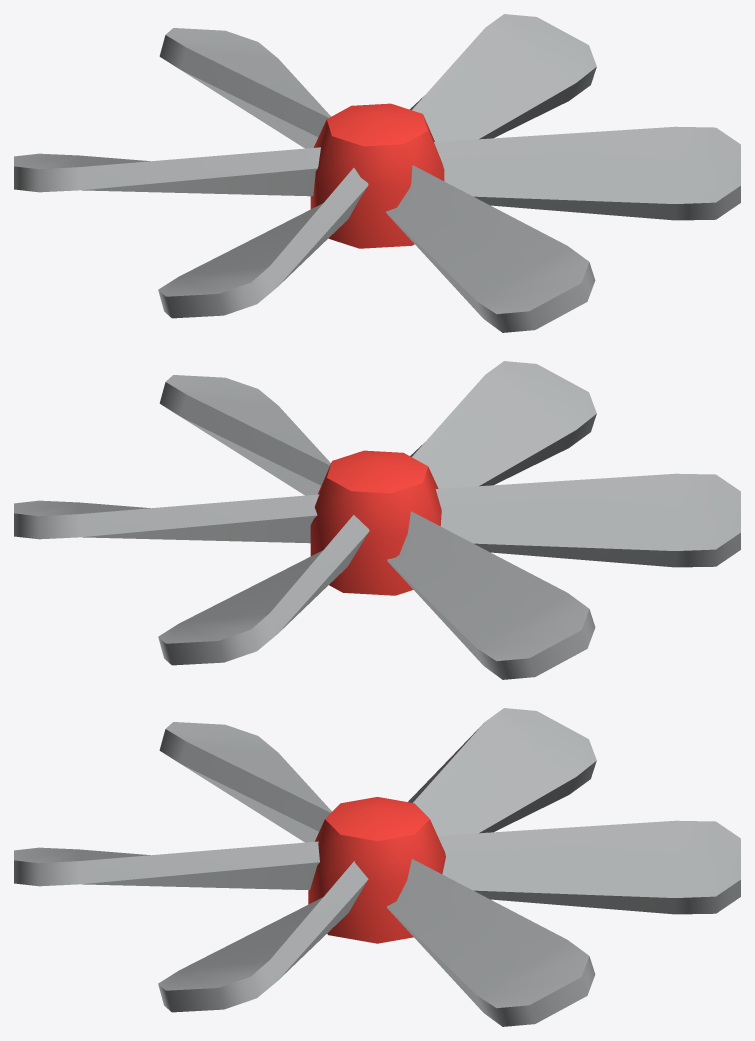
The model's file is Drone_015_propeller_002.fbx.
3 views of the same model, one above another, from view 1: azimuth 30°, elevation 25°; view 2: azimuth 150°, elevation 25°; view 3: azimuth 270°, elevation 25° (orthographic).
Visible parts, largest first — view 1: Drone_015_propeller_002; view 2: Drone_015_propeller_002; view 3: Drone_015_propeller_002.
Boxes of the visible parts, x1=… form: Drone_015_propeller_002: x1=14, y1=14, x2=740, y2=332; Drone_015_propeller_002: x1=14, y1=361, x2=740, y2=679; Drone_015_propeller_002: x1=14, y1=708, x2=740, y2=1026.
Size of the model in its own units: 26.47 by 28.98 by 4.7.
